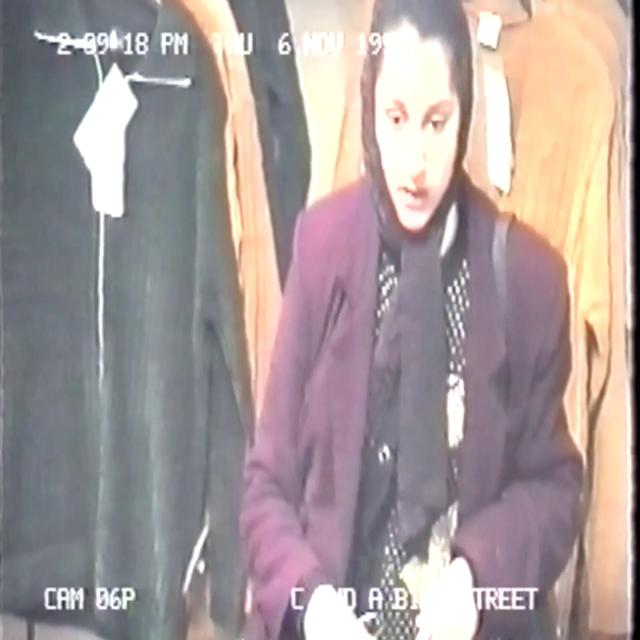normal: (216, 0, 584, 640)
